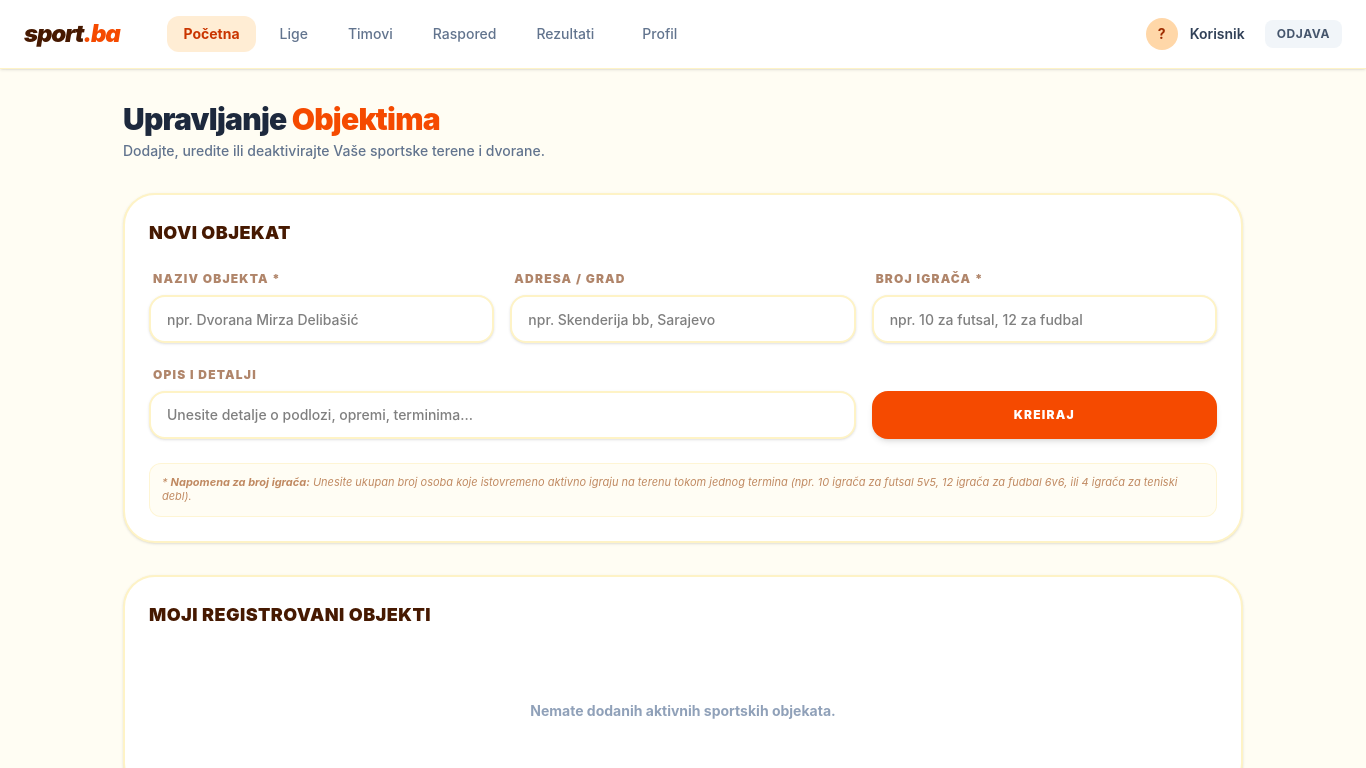
Validacija forme › prikazuje grešku ako naziv nije unesen
Expected: the text "Nemate dodanih aktivnih sportskih objekata." is shown, [530,702,836,718]
Click the button "Kreiraj".
click(1044, 415)  # box [872,391,1217,439]
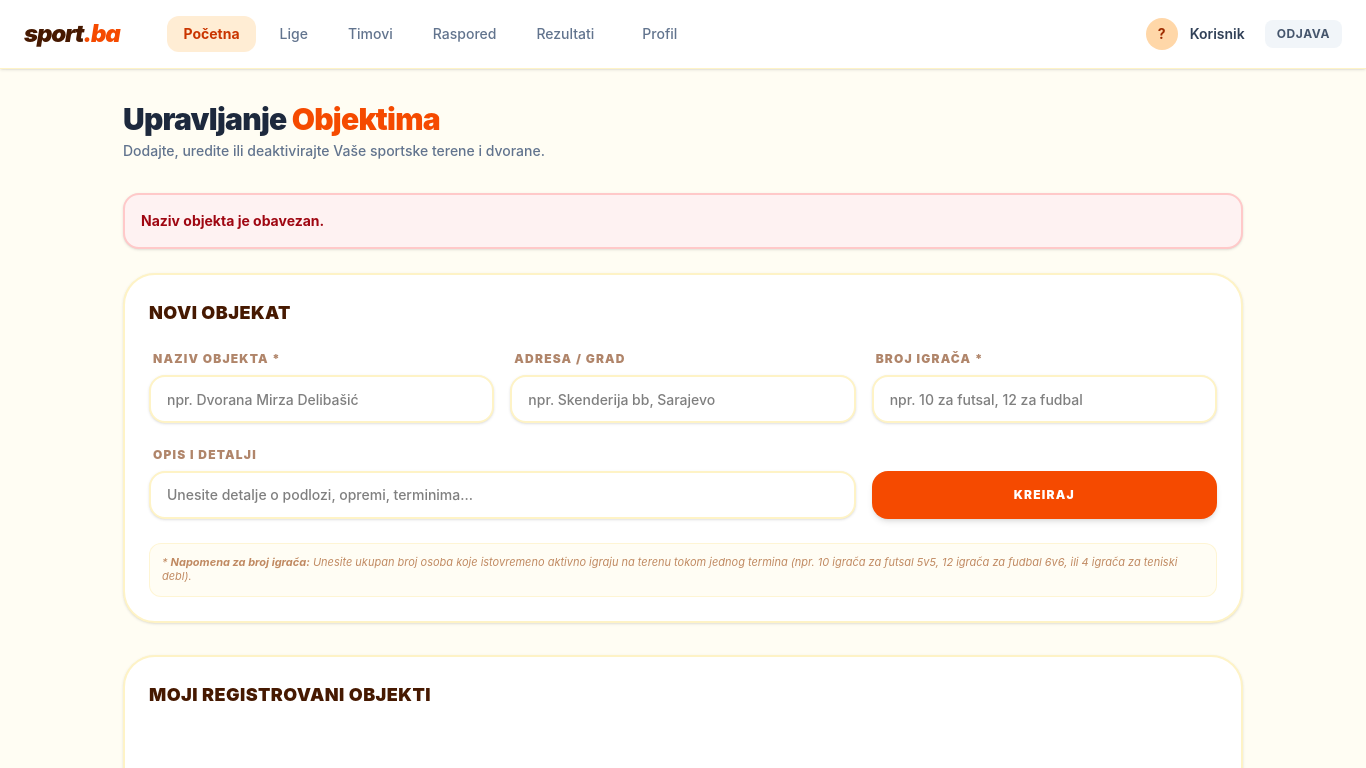
Now the text "Naziv objekta je obavezan." is shown, box [123,193,1243,249]
